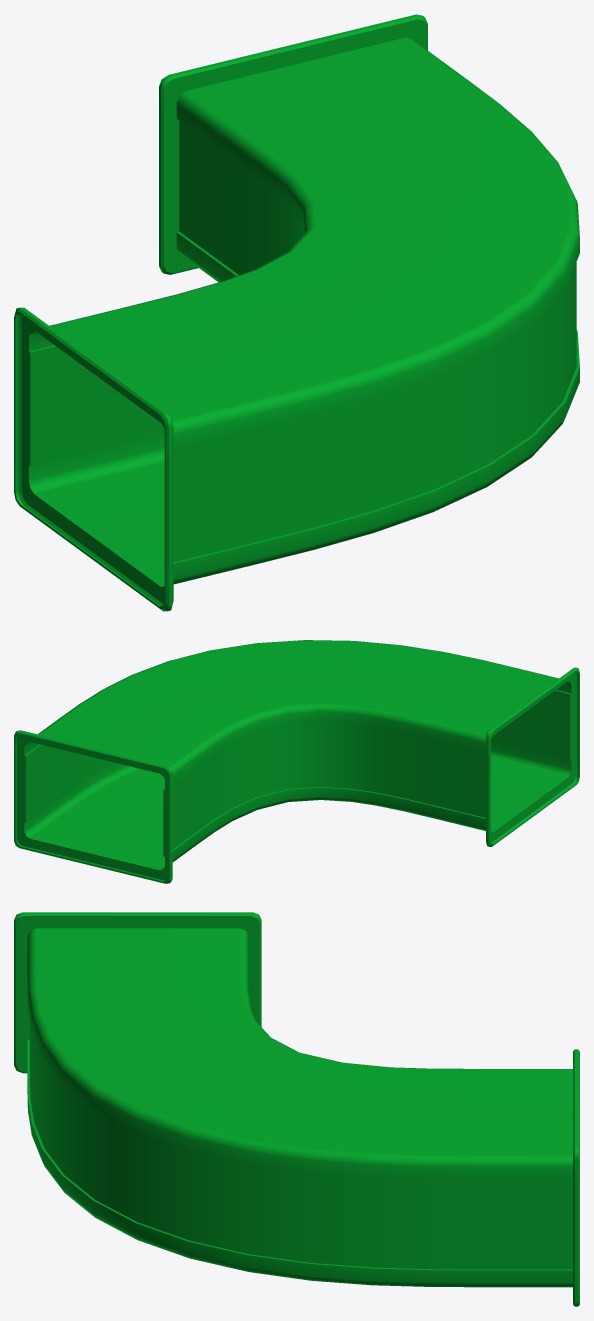
File: SM_vent_corner.fbx
3 renders of one model, top to bottom at view 1: azimuth 30°, elevation 25°; view 2: azimuth 150°, elevation 25°; view 3: azimuth 270°, elevation 25°, orthographic. The views are drawn at different scales.
Parts seen in each view (by area): view 1: SM_vent_corner; view 2: SM_vent_corner; view 3: SM_vent_corner.
Part boxes in pixels (<box>): SM_vent_corner: <box>14,14,579,611</box>; SM_vent_corner: <box>14,640,579,883</box>; SM_vent_corner: <box>14,912,579,1306</box>.
Bounding box in the file's own units: 1.02 × 0.3185 × 1.02.
